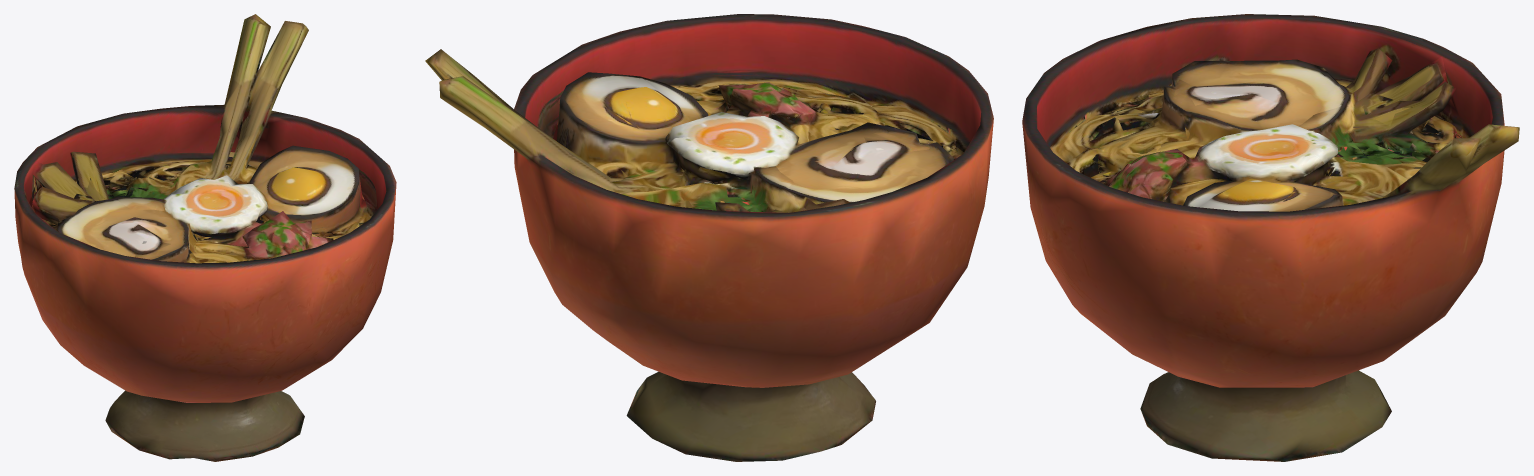
Rendered from Ramen.fbx.
3 views of the same model, side by side, from view 1: azimuth 30°, elevation 25°; view 2: azimuth 150°, elevation 25°; view 3: azimuth 270°, elevation 25° (orthographic). The views are drawn at different scales.
Parts seen in each view (by area): view 1: Mesh1.0; view 2: Mesh1.0; view 3: Mesh1.0.
Boxes of the visible parts, <box> form: Mesh1.0: <box>14,14,396,461</box>; Mesh1.0: <box>425,14,993,461</box>; Mesh1.0: <box>1022,14,1519,461</box>.
Size of the model in its own units: 188 by 156 by 186.
Materials: 1 (1 with a texture image).
